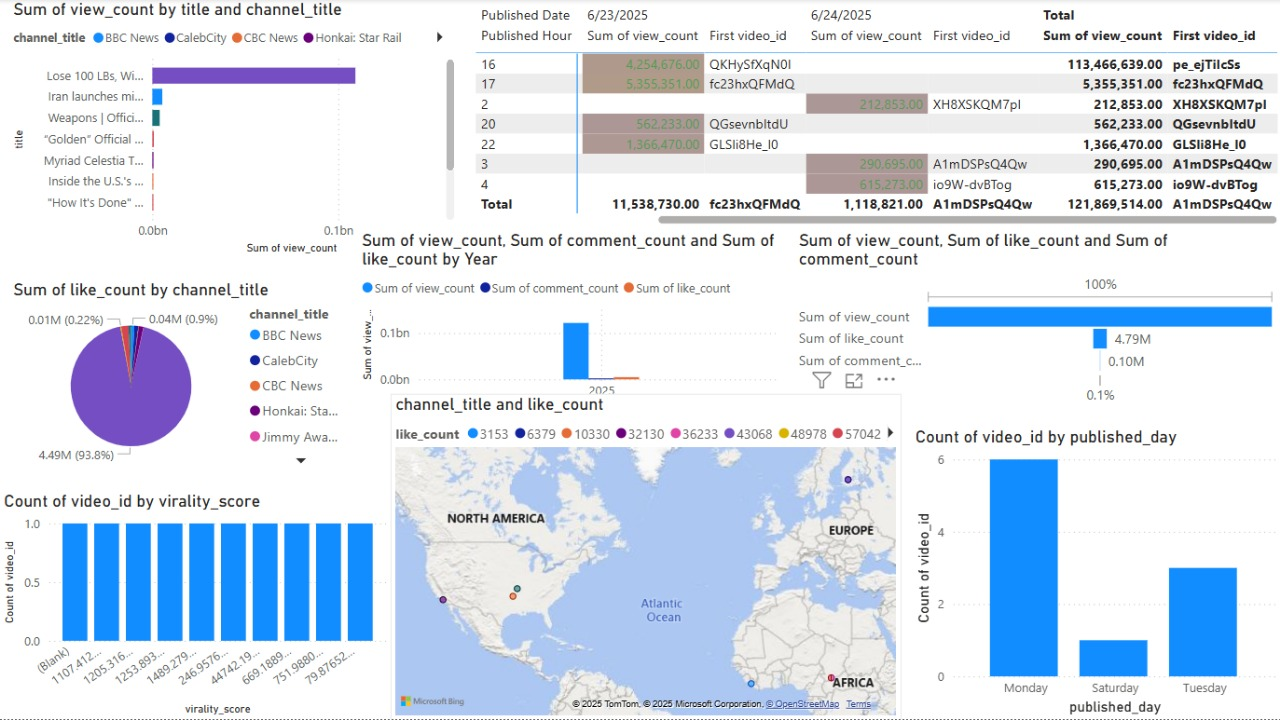

What the dashboard file says about the page in this screenshot:
{"tool":"powerbi","page":{"name":"Page 1","canvas":[1280,720],"ordinal":0},"visuals":[{"type":"barChart","fields":{"Y":["Sum(youtube_videos.view_count)"],"Category":["youtube_videos.title"],"Series":["youtube_videos.channel_title"]},"box":[9.6,0,450.1,259.3],"z":0},{"type":"pieChart","fields":{"Series":["youtube_videos.channel_title"],"Y":["Sum(youtube_videos.like_count)"]},"box":[9.6,279.9,347.2,193.5],"z":1000},{"type":"pivotTable","fields":{"Rows":["youtube_videos.Published Hour"],"Columns":["youtube_videos.Published Date"],"Values":["Sum(youtube_videos.view_count)","Min(youtube_videos.video_id)"]},"box":[470.8,0,809.5,229.9],"z":2000},{"type":"clusteredColumnChart","fields":{"Category":["youtube_videos.published_at.Variation.Date Hierarchy.Year","youtube_videos.published_at.Variation.Date Hierarchy.Quarter","youtube_videos.published_at.Variation.Date Hierarchy.Month","youtube_videos.published_at.Variation.Date Hierarchy.Day"],"Y":["Sum(youtube_videos.view_count)","Sum(youtube_videos.comment_count)","Sum(youtube_videos.like_count)"]},"box":[356.8,230.5,426.8,179.8],"z":3000},{"type":"funnel","fields":{"Y":["Sum(youtube_videos.view_count)","Sum(youtube_videos.like_count)","Sum(youtube_videos.comment_count)"]},"box":[793.1,230.5,487.1,179.8],"z":4000},{"type":"columnChart","fields":{"Category":["youtube_videos.virality_score"],"Y":["CountNonNull(youtube_videos.video_id)"]},"box":[0,491.3,391.1,229.2],"z":5000},{"type":"map","fields":{"Category":["youtube_videos.channel_title"],"Series":["youtube_videos.like_count"]},"box":[391.1,393.8,509.1,326.6],"z":6000},{"type":"lineStackedColumnComboChart","fields":{"Category":["youtube_videos.published_day","youtube_videos.virality_score"],"Y":["CountNonNull(youtube_videos.video_id)"]},"box":[909.8,426.8,370.5,293.7],"z":7000}]}

Visuals, with their boxes in screenshot pixels (x1, y1, x2, y2), scaled from the page's 1280x720 canvas onto the 1280x720 screenshot:
barChart - Sum(youtube_videos.view_count) x youtube_videos.title: Rect(10, 0, 460, 259)
pieChart - youtube_videos.channel_title x Sum(youtube_videos.like_count): Rect(10, 280, 357, 473)
pivotTable - youtube_videos.Published Hour x youtube_videos.Published Date: Rect(471, 0, 1279, 230)
clusteredColumnChart - youtube_videos.published_at.Variation.Date Hierarchy.Year x youtube_videos.published_at.Variation.Date Hierarchy.Quarter: Rect(357, 230, 784, 410)
funnel - Sum(youtube_videos.view_count) x Sum(youtube_videos.like_count): Rect(793, 230, 1279, 410)
columnChart - youtube_videos.virality_score x CountNonNull(youtube_videos.video_id): Rect(0, 491, 391, 719)
map - youtube_videos.channel_title x youtube_videos.like_count: Rect(391, 394, 900, 719)
lineStackedColumnComboChart - youtube_videos.published_day x youtube_videos.virality_score: Rect(910, 427, 1279, 719)
